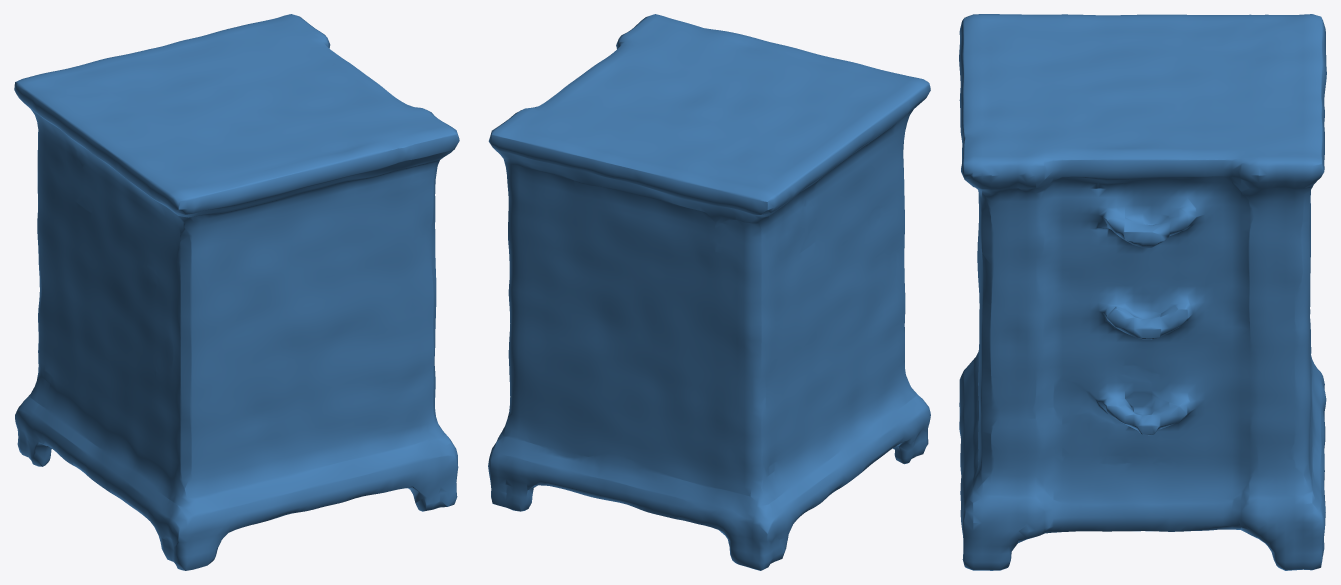
The model's file is nightstand_8_5.obj.
3 renders of one model, left to right at view 1: azimuth 30°, elevation 25°; view 2: azimuth 150°, elevation 25°; view 3: azimuth 270°, elevation 25°, orthographic. The views are drawn at different scales.
Size of the model in its own units: 0.6412 by 0.7983 by 0.6444.
